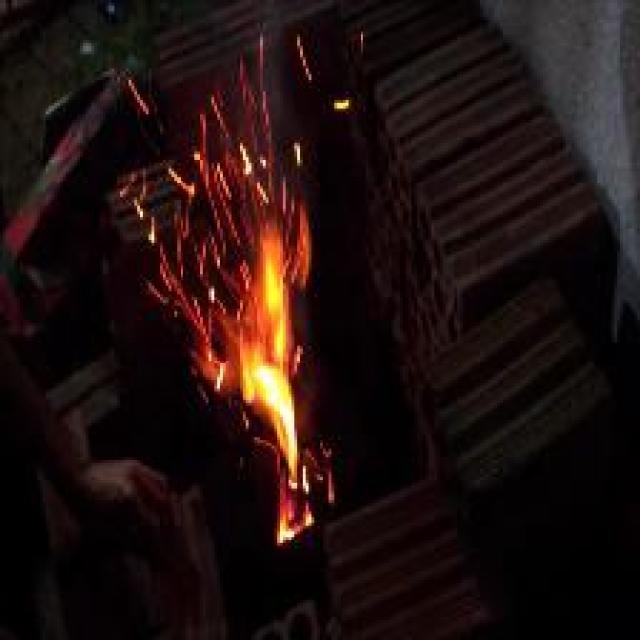fire: (151, 66, 368, 546)
